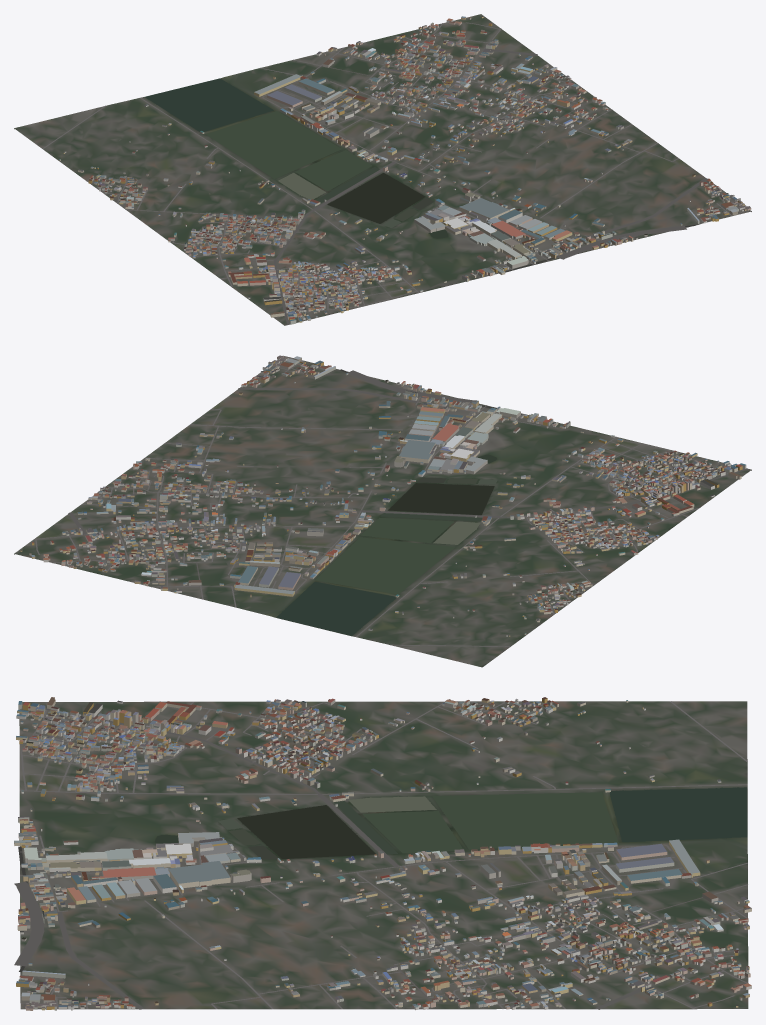
The picture shows the model from 3 angles, top to bottom: view 1: azimuth 30°, elevation 25°; view 2: azimuth 150°, elevation 25°; view 3: azimuth 270°, elevation 25°; orthographic projection. The views are drawn at different scales.
Parts seen in each view (by area): view 1: ground, buildings, water, roads; view 2: ground, buildings, water, roads; view 3: ground, buildings, water, roads.
Boxes of the visible parts, x1,y1,x2,y2 form: ground: (14,14,751,325); buildings: (59,16,751,324); water: (145,78,695,272); roads: (42,22,747,324); ground: (14,355,751,667); buildings: (20,355,746,636); water: (276,369,528,635); roads: (34,358,747,646); ground: (19,701,748,1009); buildings: (14,697,751,1010); water: (18,787,747,972); roads: (14,701,748,1009).
Size of the model in its own units: 1414 by 26.91 by 1421.
